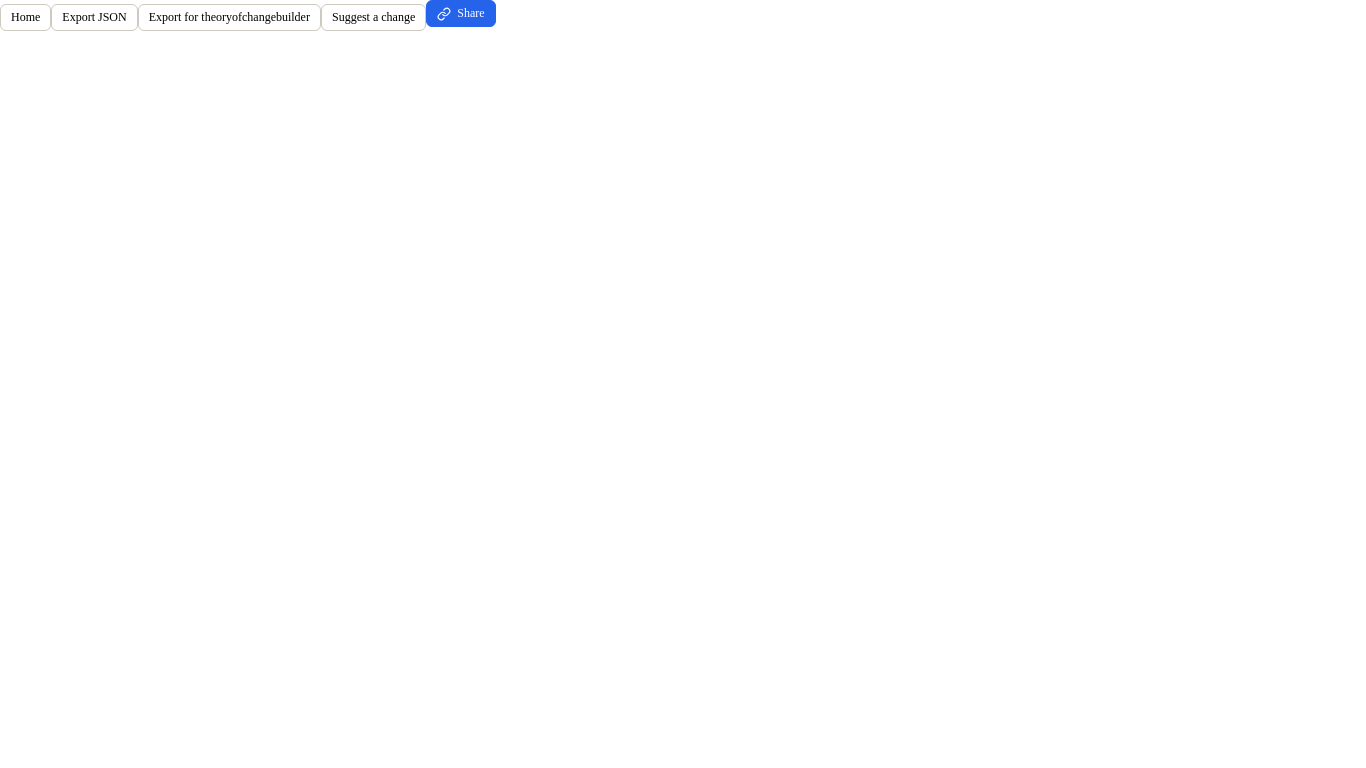
it: the Suggest a change dialog › says nothing has changed when nothing has
Click the button "Suggest a change". click: [374, 17]
box: [321,4,426,30]
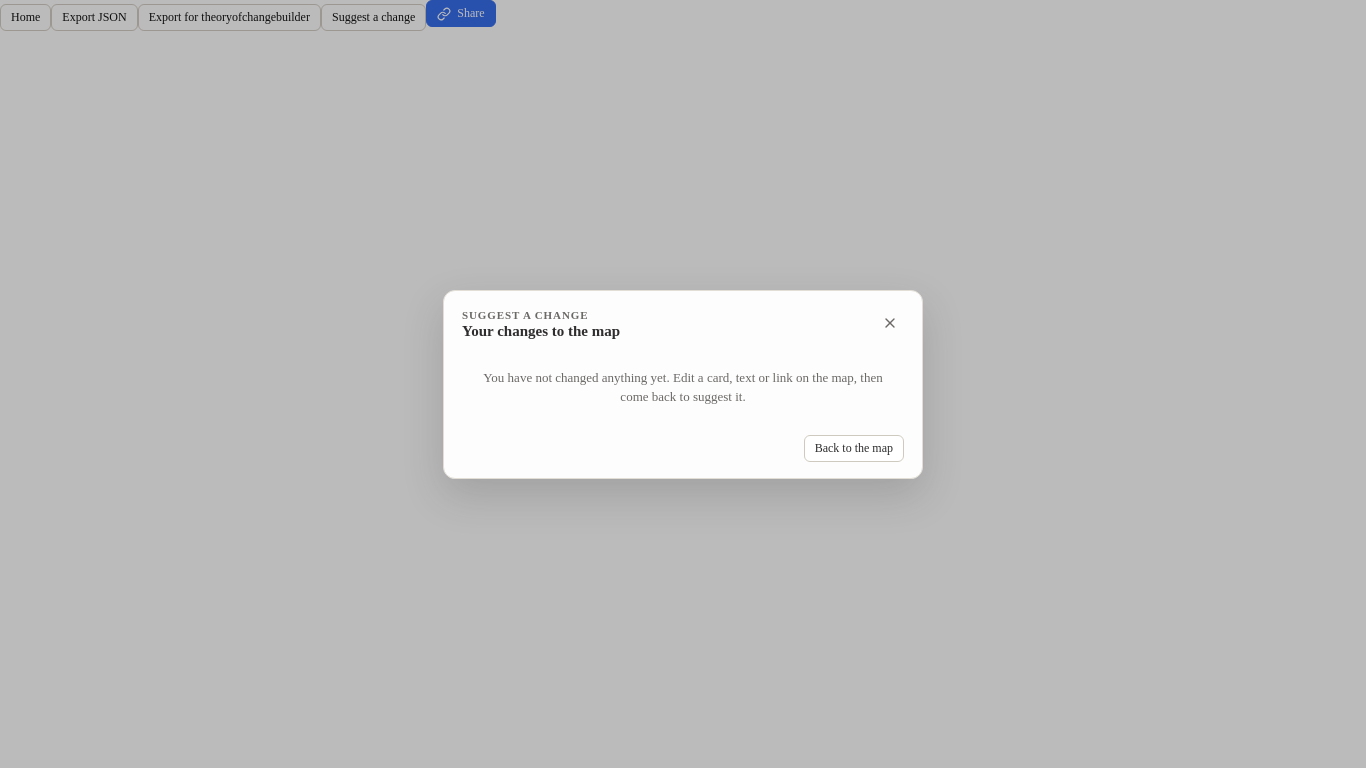
Check: the dialog shows "You have not changed anything yet", box [483,370,883,404]
